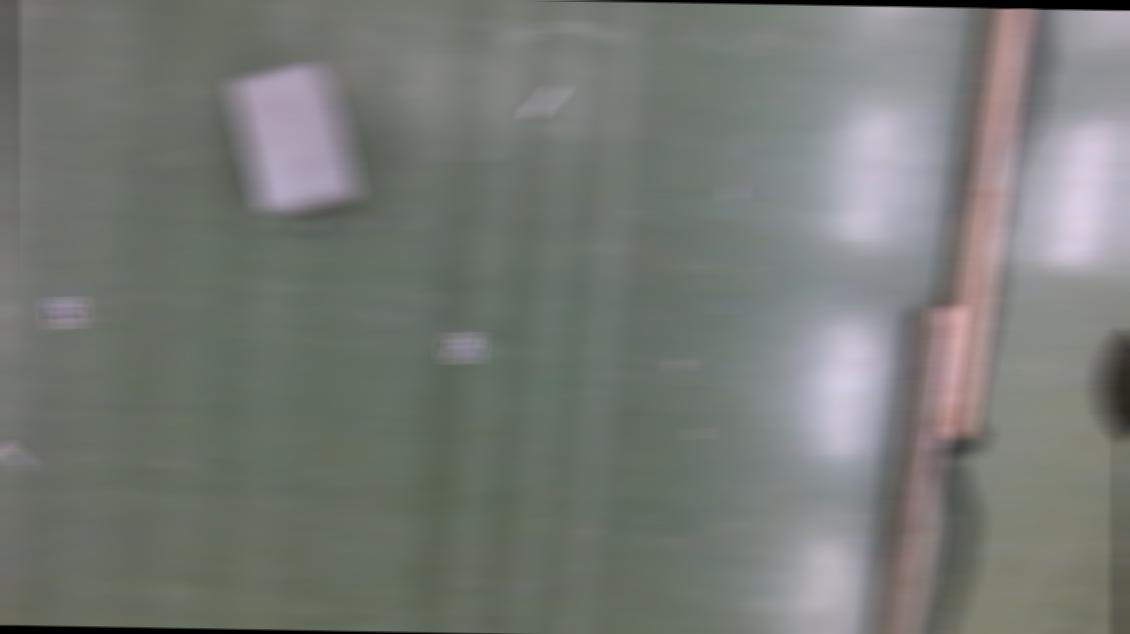probes: (528, 81, 564, 118), (0, 436, 33, 471)
rako: (226, 55, 366, 215)
